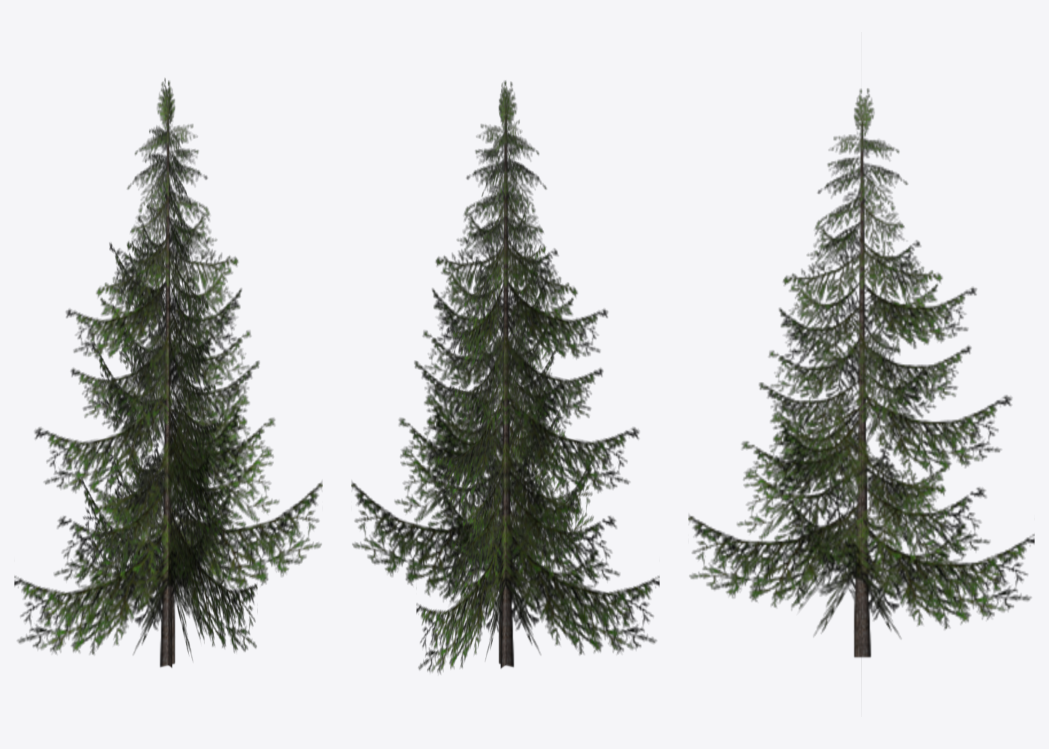
The model's file is arbolDetailed.glb.
3 renders of one model, left to right at view 1: azimuth 30°, elevation 25°; view 2: azimuth 150°, elevation 25°; view 3: azimuth 270°, elevation 25°, orthographic. The views are drawn at different scales.
Parts seen in each view (by area): view 1: Plane; view 2: Plane; view 3: Plane.
Part boxes in pixels (x1=…): Plane: x1=14, y1=78, x2=322, y2=667; Plane: x1=351, y1=80, x2=659, y2=673; Plane: x1=688, y1=88, x2=1034, y2=657.
Bounding box in the file's own units: 5.73 × 10.48 × 5.73.
Materials: 1 (1 with a texture image).
